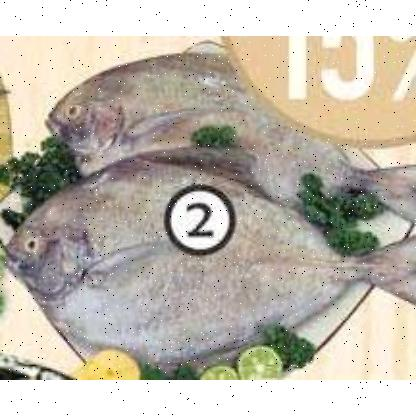ikan-pacu: (6, 160, 378, 362), (46, 54, 413, 216)
